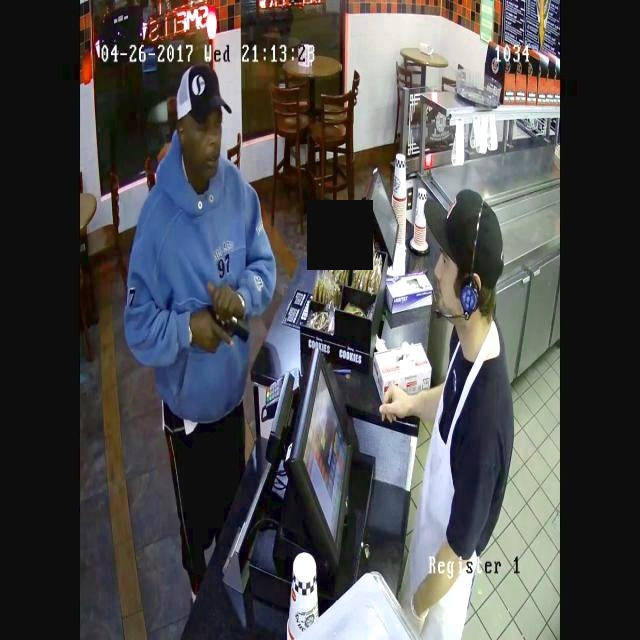gun: (187, 290, 257, 365)
